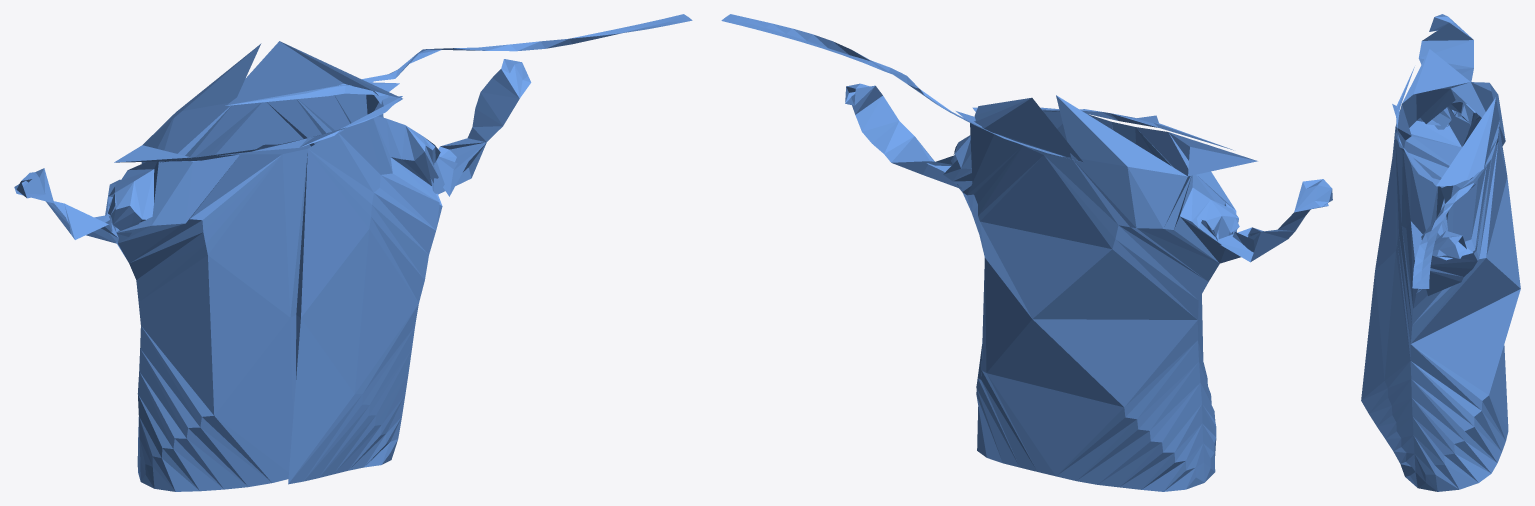
Rendered from render_mesh.glb.
The picture shows the model from 3 angles, left to right: view 1: azimuth 30°, elevation 25°; view 2: azimuth 150°, elevation 25°; view 3: azimuth 270°, elevation 25°; orthographic projection. The views are drawn at different scales.
Visible parts, largest first — view 1: panel.front.render, panel.back.render, panel.neck_band.render, panel.sleeve.right.render, panel.sleeve.left.render; view 2: panel.back.render, panel.front.render, panel.neck_band.render, panel.sleeve.right.render, panel.sleeve.left.render; view 3: panel.back.render, panel.front.render, panel.neck_band.render, panel.sleeve.left.render, panel.sleeve.right.render.
Boxes of the visible parts, left/top/right/bottom form: panel.front.render: left=108, top=96, right=440, bottom=491; panel.back.render: left=105, top=43, right=442, bottom=480; panel.neck_band.render: left=157, top=14, right=692, bottom=162; panel.sleeve.right.render: left=430, top=59, right=531, bottom=196; panel.sleeve.left.render: left=14, top=168, right=118, bottom=243; panel.back.render: left=943, top=95, right=1225, bottom=491; panel.front.render: left=953, top=107, right=1257, bottom=481; panel.neck_band.render: left=721, top=14, right=1233, bottom=162; panel.sleeve.right.render: left=845, top=83, right=961, bottom=188; panel.sleeve.left.render: left=1218, top=179, right=1332, bottom=263; panel.back.render: left=1410, top=82, right=1520, bottom=491; panel.front.render: left=1361, top=49, right=1470, bottom=487; panel.neck_band.render: left=1392, top=67, right=1499, bottom=288; panel.sleeve.left.render: left=1418, top=14, right=1473, bottom=146; panel.sleeve.right.render: left=1418, top=231, right=1477, bottom=295.
Bounding box in the file's own units: 1.39 × 0.8316 × 0.3287.
